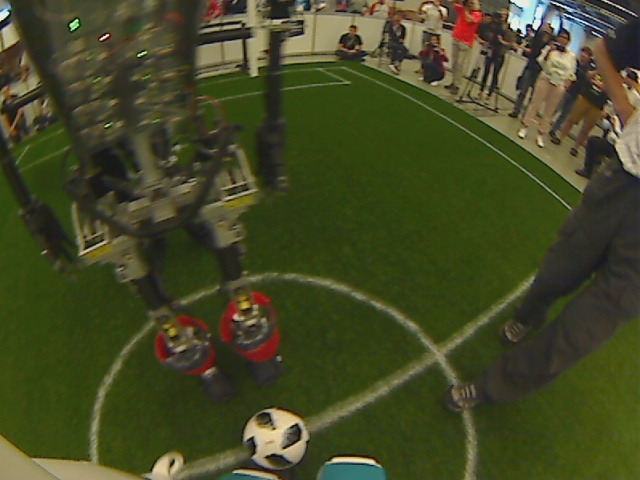ball: (240, 404, 310, 473)
